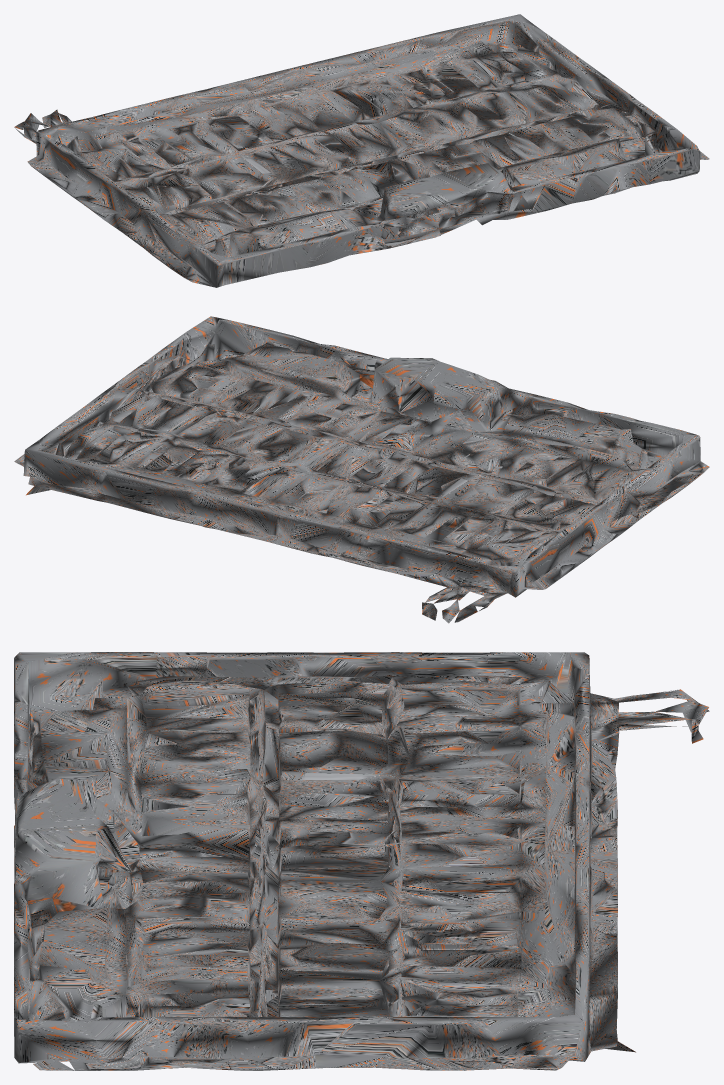
File: baterai-far.glb
The picture shows the model from 3 angles, top to bottom: view 1: azimuth 30°, elevation 25°; view 2: azimuth 150°, elevation 25°; view 3: azimuth 270°, elevation 25°; orthographic projection. The views are drawn at different scales.
Size of the model in its own units: 1.9 by 0.1636 by 1.41.
Materials: 1 (1 with a texture image).
